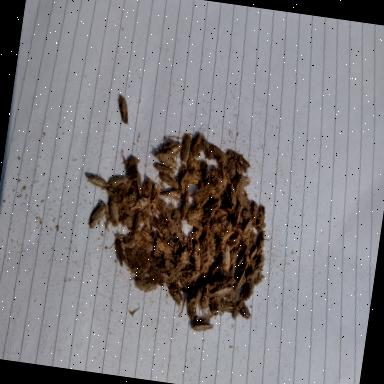pbw: (110, 235, 131, 267), (197, 126, 216, 160), (185, 281, 202, 319), (214, 227, 234, 258), (166, 282, 186, 312), (245, 256, 265, 286), (154, 148, 181, 170), (104, 194, 122, 227), (190, 312, 218, 333), (88, 201, 108, 230), (208, 166, 227, 196), (152, 234, 176, 256), (208, 282, 235, 300), (145, 266, 167, 288), (230, 151, 252, 173), (180, 131, 195, 163), (254, 229, 272, 255), (218, 242, 234, 271), (116, 94, 131, 124), (85, 173, 110, 191), (125, 154, 141, 181), (158, 172, 182, 190), (148, 215, 170, 233), (216, 160, 230, 188), (190, 244, 204, 272), (192, 124, 207, 150), (205, 259, 221, 283), (132, 169, 146, 196), (198, 282, 212, 309), (140, 209, 155, 234), (256, 202, 269, 230), (130, 207, 144, 233), (227, 182, 240, 208), (180, 194, 192, 222), (198, 160, 212, 184), (236, 302, 253, 320), (248, 201, 260, 226), (142, 176, 154, 200), (231, 202, 242, 228), (237, 246, 250, 268), (108, 174, 127, 188), (153, 162, 175, 174), (138, 229, 154, 244), (243, 216, 254, 235), (168, 142, 183, 155), (248, 244, 258, 260), (228, 239, 240, 251)
